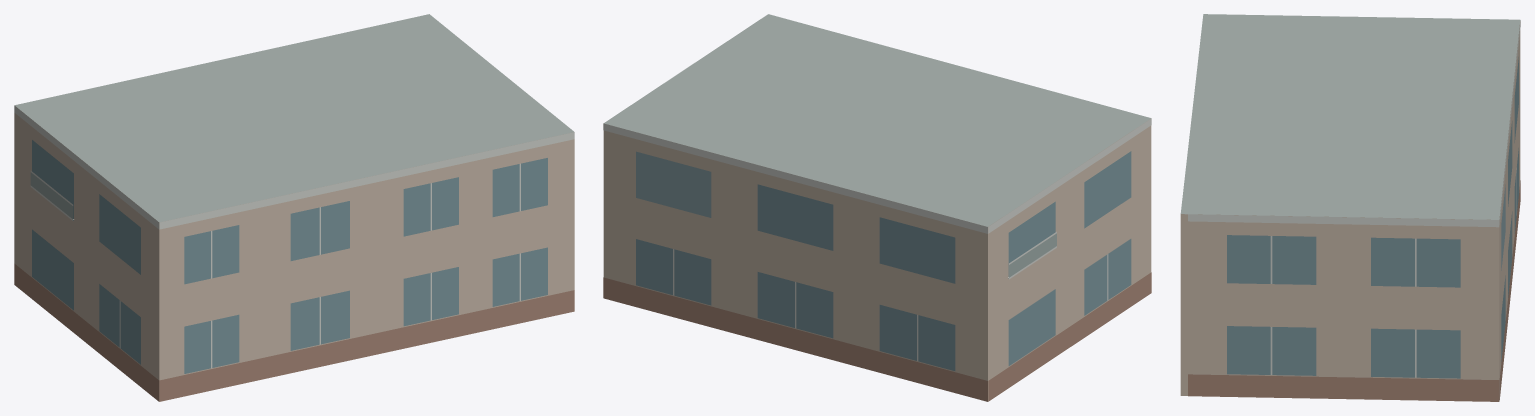
The model's file is survey-upis-32880405.glb.
The picture shows the model from 3 angles, left to right: view 1: azimuth 30°, elevation 25°; view 2: azimuth 150°, elevation 25°; view 3: azimuth 270°, elevation 25°; orthographic projection. The views are drawn at different scales.
Parts seen in each view (by area): view 1: survey-upis-32880405.tmp; view 2: survey-upis-32880405.tmp; view 3: survey-upis-32880405.tmp.
Boxes of the visible parts, x1,y1,x2,y2 form: survey-upis-32880405.tmp: (14, 14, 574, 401); survey-upis-32880405.tmp: (603, 14, 1151, 401); survey-upis-32880405.tmp: (1180, 14, 1520, 401).
Bounding box in the file's own units: 14.82 × 6.1 × 10.33.
